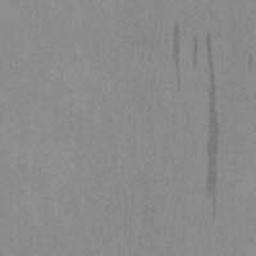Inclusion: (204, 28, 220, 220), (172, 23, 183, 93), (191, 33, 200, 65)
